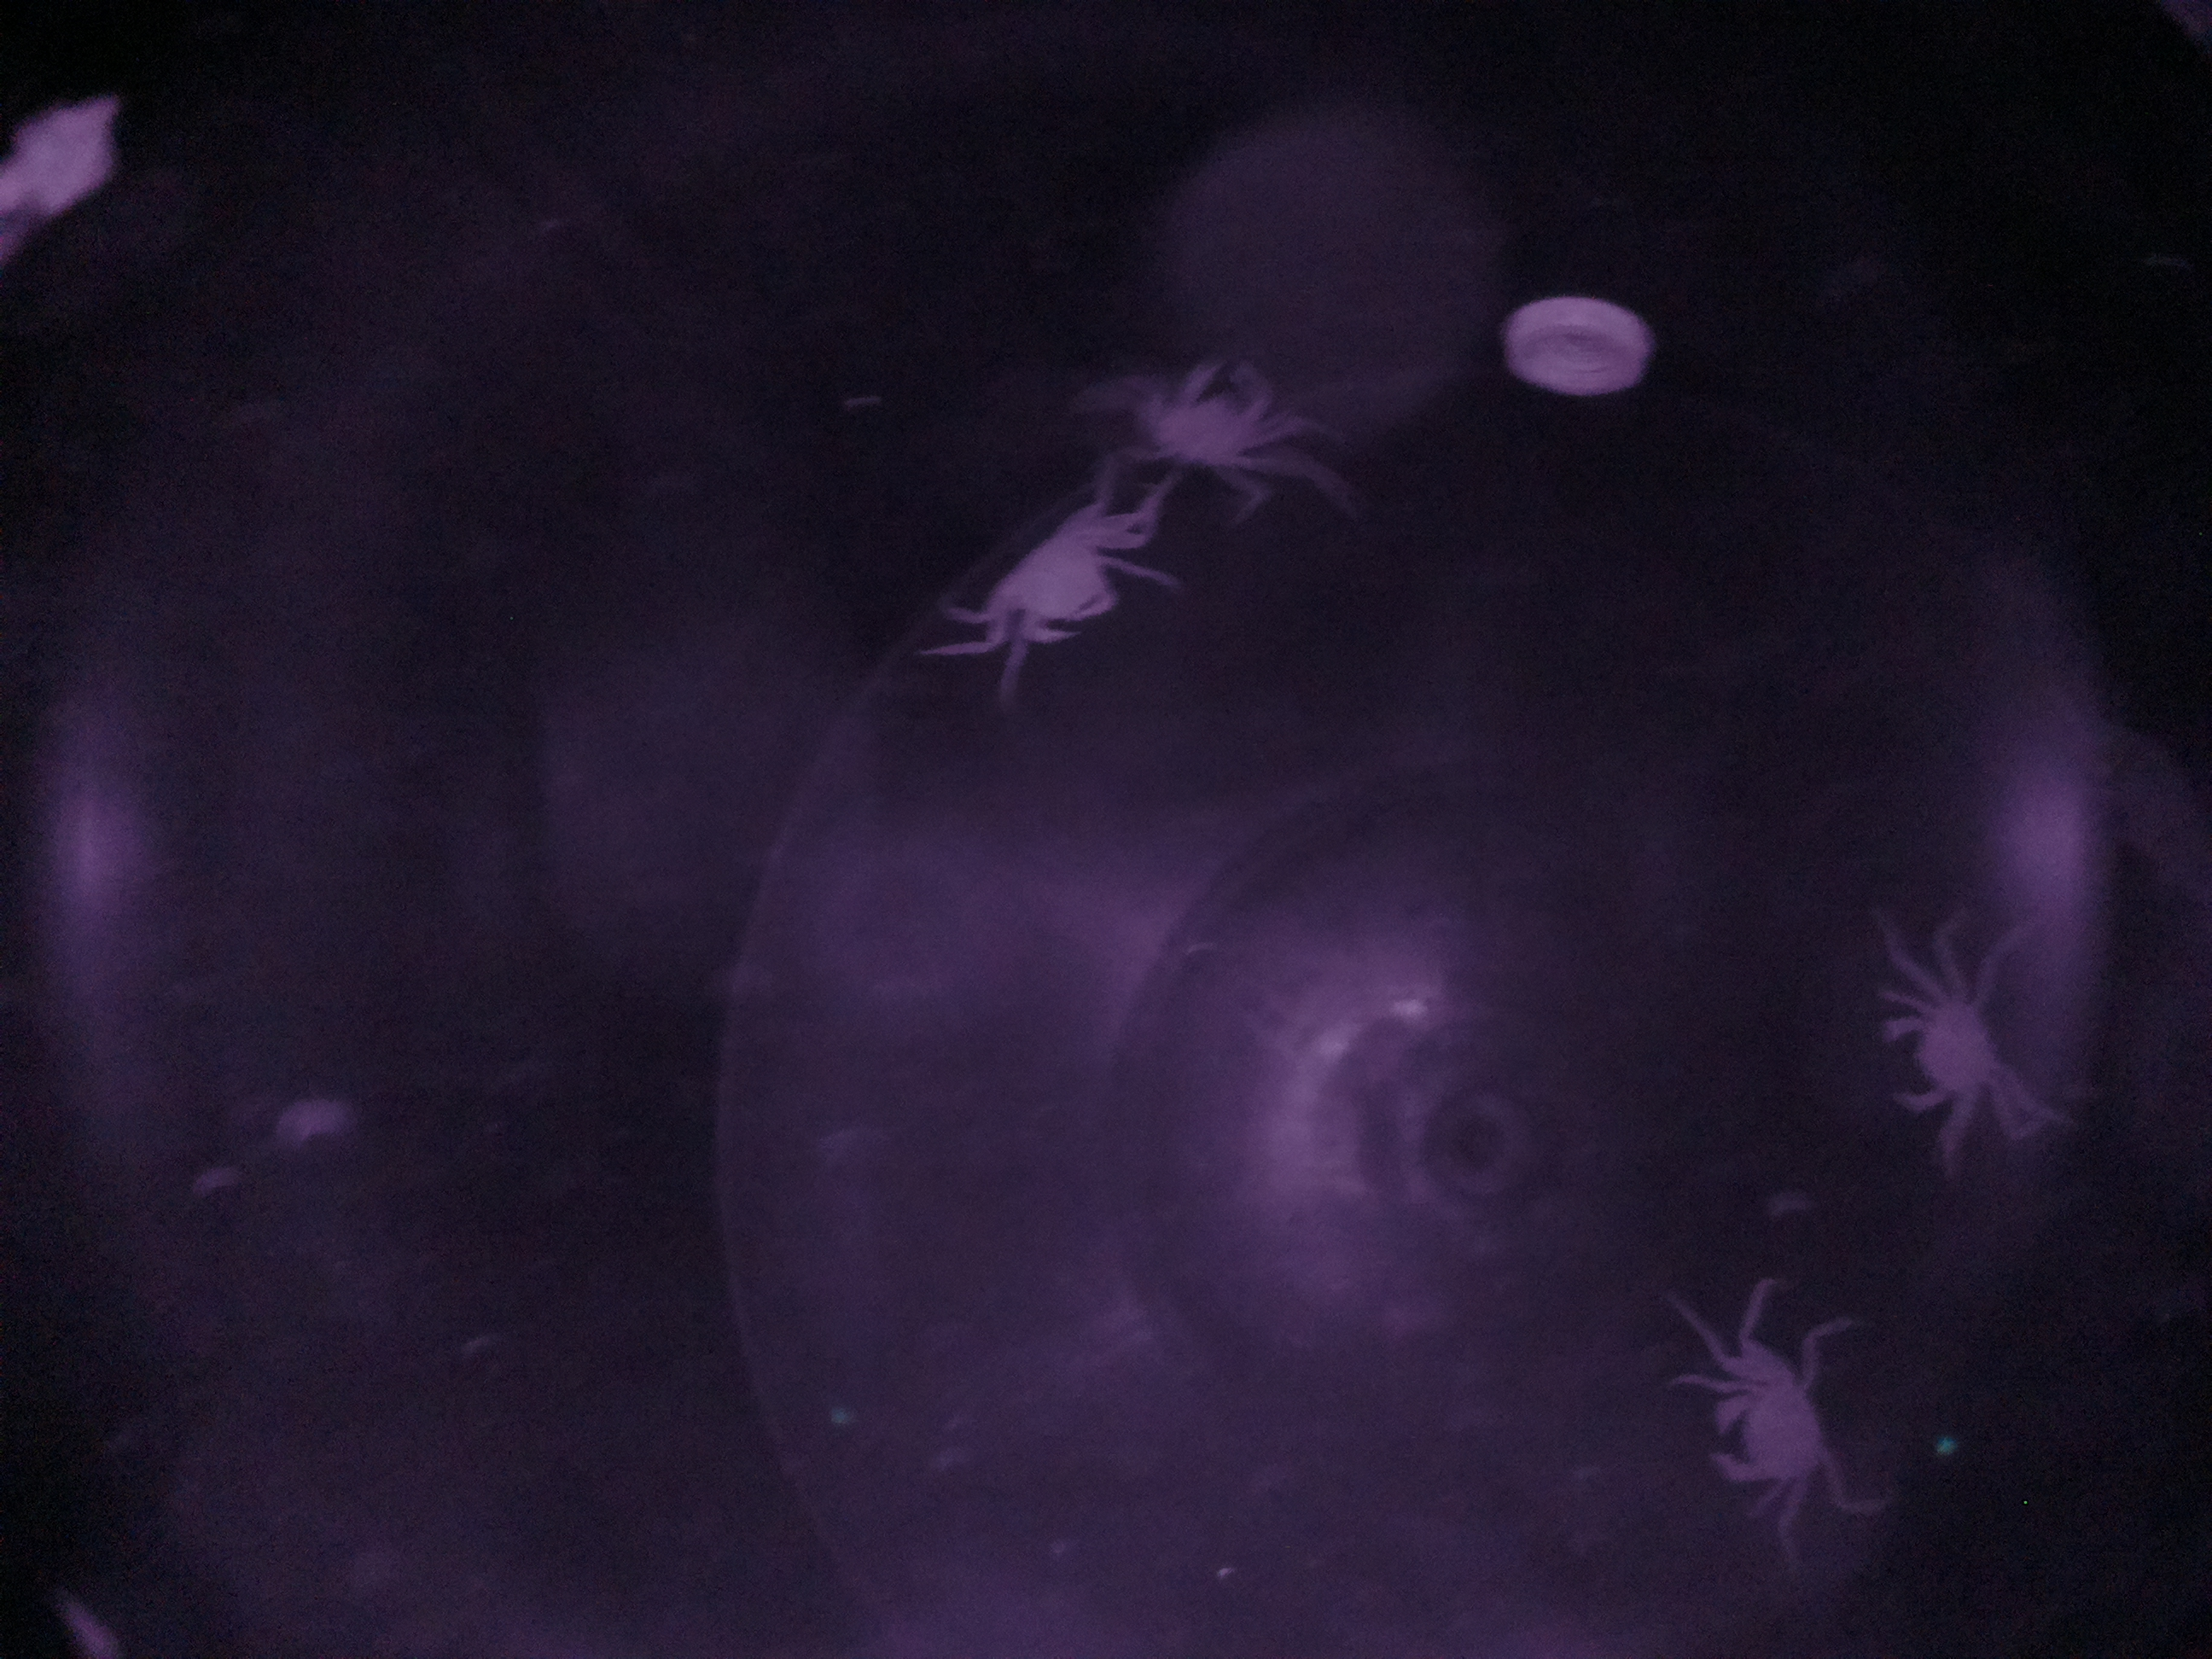Crab: (939, 490, 1197, 694), (1669, 1331, 1871, 1539), (1858, 955, 2043, 1166)
